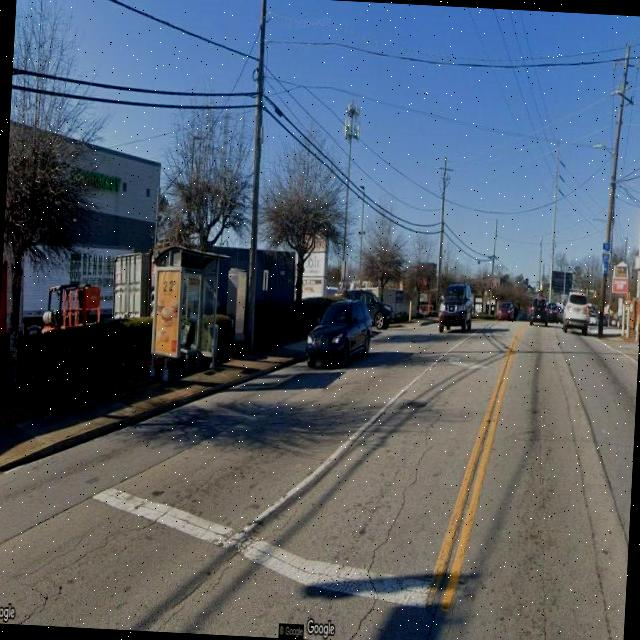seating: (180, 346, 204, 370)
shelter: (147, 244, 232, 386)
trash_can: (206, 324, 218, 364)
